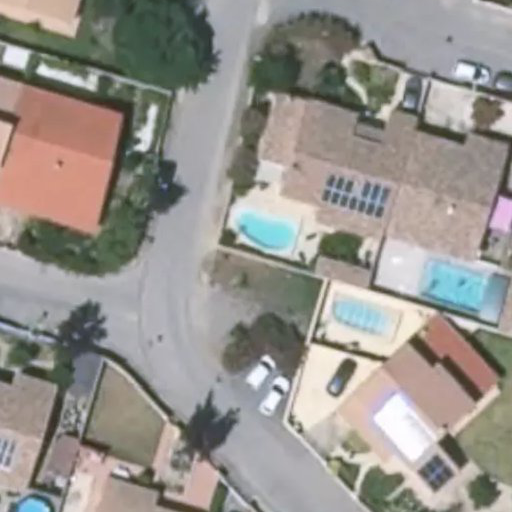pool: (218, 239, 291, 244)
